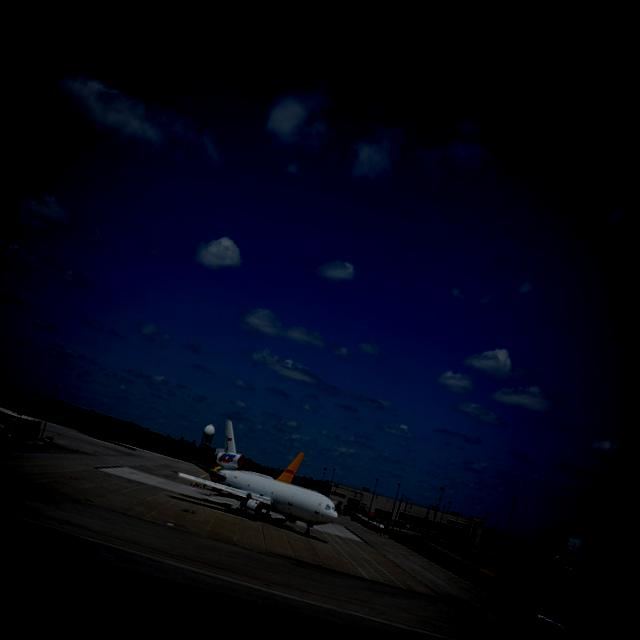Vehicle: (42, 434, 54, 444)
